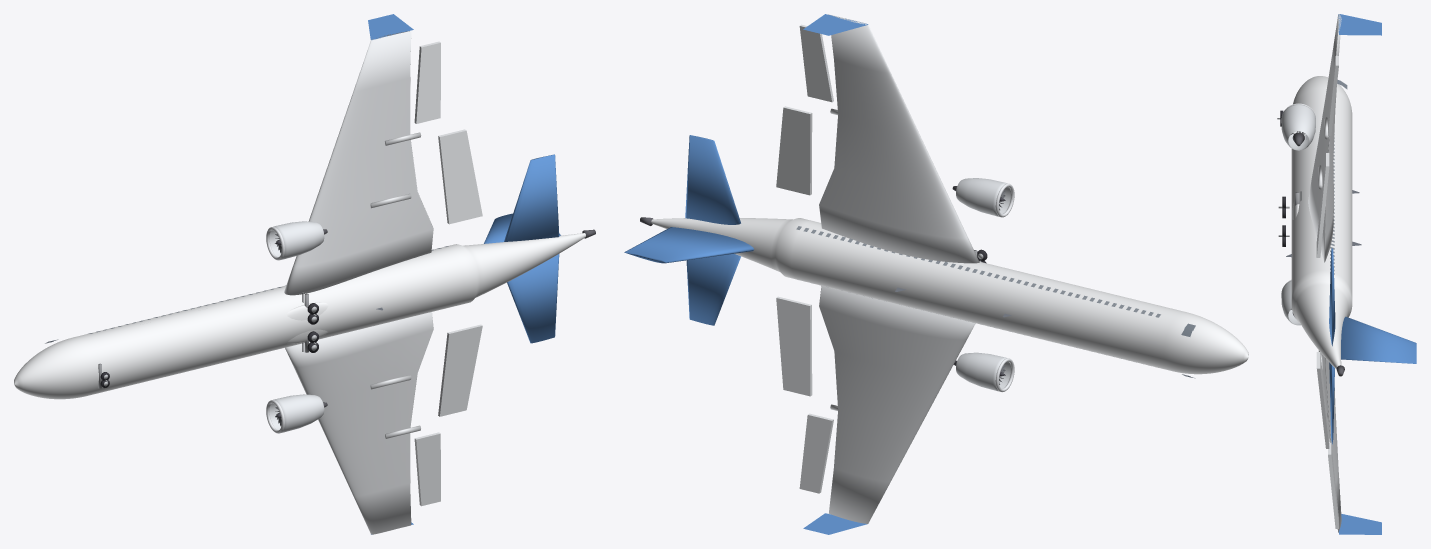
File: a321xlr.glb
The picture shows the model from 3 angles, left to right: view 1: azimuth 30°, elevation 25°; view 2: azimuth 150°, elevation 25°; view 3: azimuth 270°, elevation 25°; orthographic projection.
Visible parts, largest first — view 1: Fuselage, Wing_R, Wing_L, HStab_R, HStab_L, Flap_R, Flap_L, Aileron_R, Aileron_L, Nacelle_1_0, Nacelle_-1_0, Sharklet_R; view 2: Fuselage, Wing_L, Wing_R, HStab_R, Flap_L, Fin, Flap_R, HStab_L, Aileron_L, Aileron_R, Nacelle_-1_0, Nacelle_1_0 (+3 smaller); view 3: Fuselage, Wing_R, Fin, Nacelle_1_0, Wing_L, Sharklet_R, Sharklet_L, Flap_R, Flap_L, HStab_R, Aileron_L, Nacelle_-1_0 (+2 smaller).
Part boxes in pixels (x1,y1,x2,y2): Fuselage: [14, 233, 585, 399]; Wing_R: [284, 31, 433, 295]; Wing_L: [285, 312, 433, 534]; HStab_R: [504, 154, 559, 241]; HStab_L: [507, 254, 559, 343]; Flap_R: [438, 129, 482, 224]; Flap_L: [438, 324, 482, 416]; Aileron_R: [414, 41, 440, 123]; Aileron_L: [414, 432, 440, 506]; Nacelle_1_0: [269, 221, 324, 259]; Nacelle_-1_0: [269, 394, 324, 432]; Sharklet_R: [368, 14, 413, 39]; Fuselage: [651, 218, 1248, 374]; Wing_L: [819, 285, 975, 523]; Wing_R: [819, 14, 979, 263]; HStab_R: [685, 135, 740, 224]; Flap_L: [776, 296, 812, 396]; Fin: [624, 227, 754, 263]; Flap_R: [776, 106, 812, 195]; HStab_L: [686, 254, 740, 325]; Aileron_L: [799, 413, 833, 493]; Aileron_R: [799, 24, 833, 102]; Nacelle_-1_0: [956, 352, 1011, 391]; Nacelle_1_0: [956, 178, 1011, 216]; Fuselage: [1291, 76, 1352, 368]; Wing_R: [1308, 14, 1341, 262]; Fin: [1341, 316, 1416, 363]; Nacelle_1_0: [1281, 104, 1315, 150]; Wing_L: [1322, 354, 1341, 532]; Sharklet_R: [1338, 14, 1381, 35]; Sharklet_L: [1338, 514, 1381, 534]; Flap_R: [1316, 153, 1329, 257]; Flap_L: [1316, 352, 1329, 448]; HStab_R: [1329, 248, 1335, 346]; Aileron_L: [1328, 442, 1338, 528]; Nacelle_-1_0: [1281, 280, 1300, 325].
Size of the model in its own units: 44.81 by 35.8 by 9.07.
